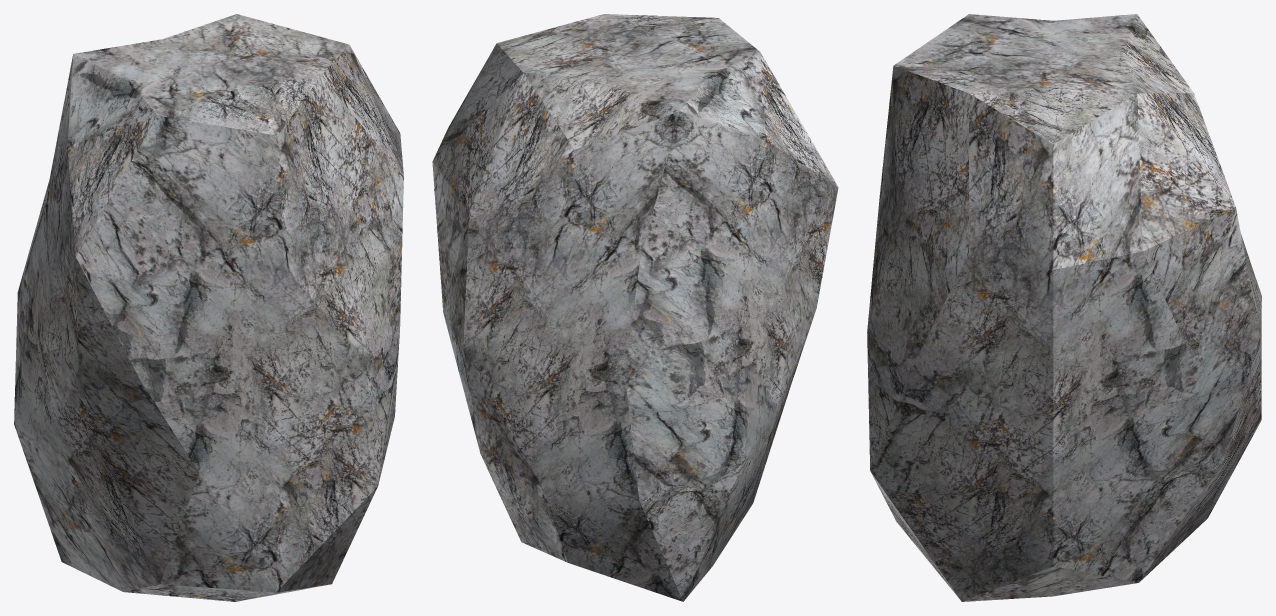
File: granite_crag_mid.gltf
3 views of the same model, side by side, from view 1: azimuth 30°, elevation 25°; view 2: azimuth 150°, elevation 25°; view 3: azimuth 270°, elevation 25° (orthographic). The views are drawn at different scales.
Visible parts, largest first — view 1: granite_crag_mid; view 2: granite_crag_mid; view 3: granite_crag_mid.
Boxes of the visible parts, x1,y1,x2,y2 form: granite_crag_mid: (14, 14, 403, 601); granite_crag_mid: (432, 14, 838, 601); granite_crag_mid: (867, 14, 1261, 601).
Size of the model in its own units: 1.6 by 2.12 by 1.5.
1 material, 1 textured.
